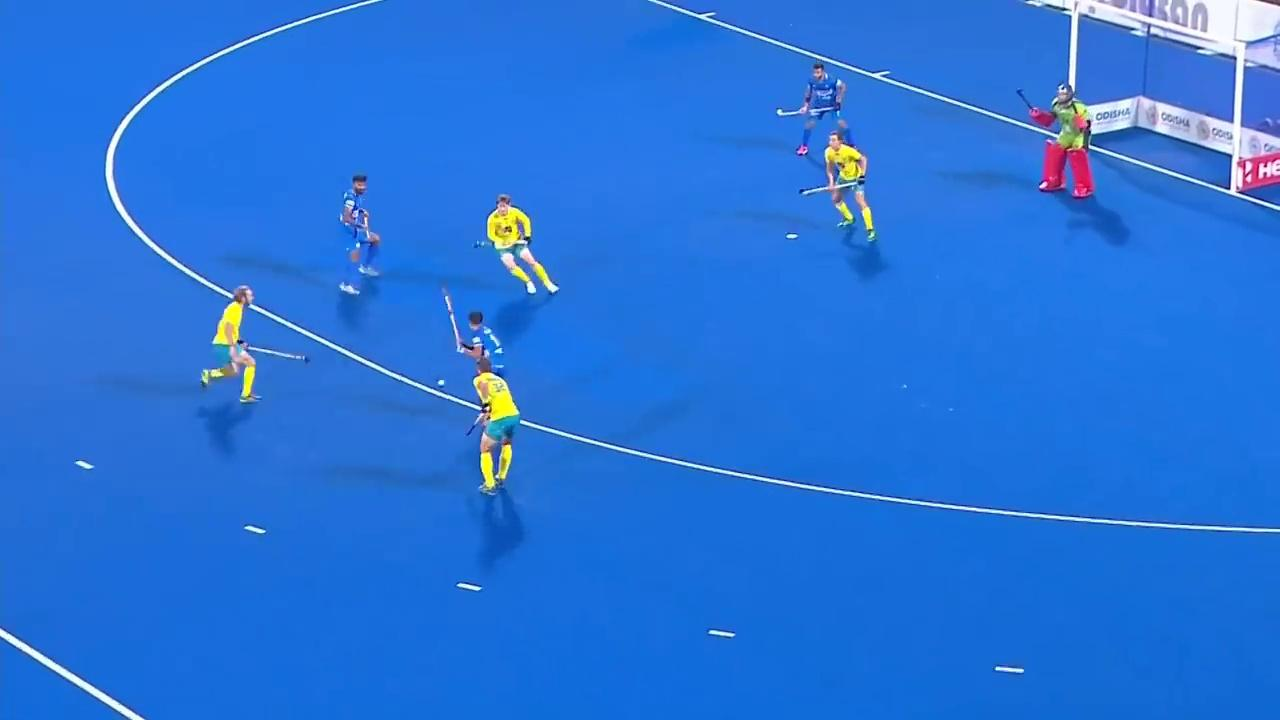ball: (430, 374, 453, 391)
